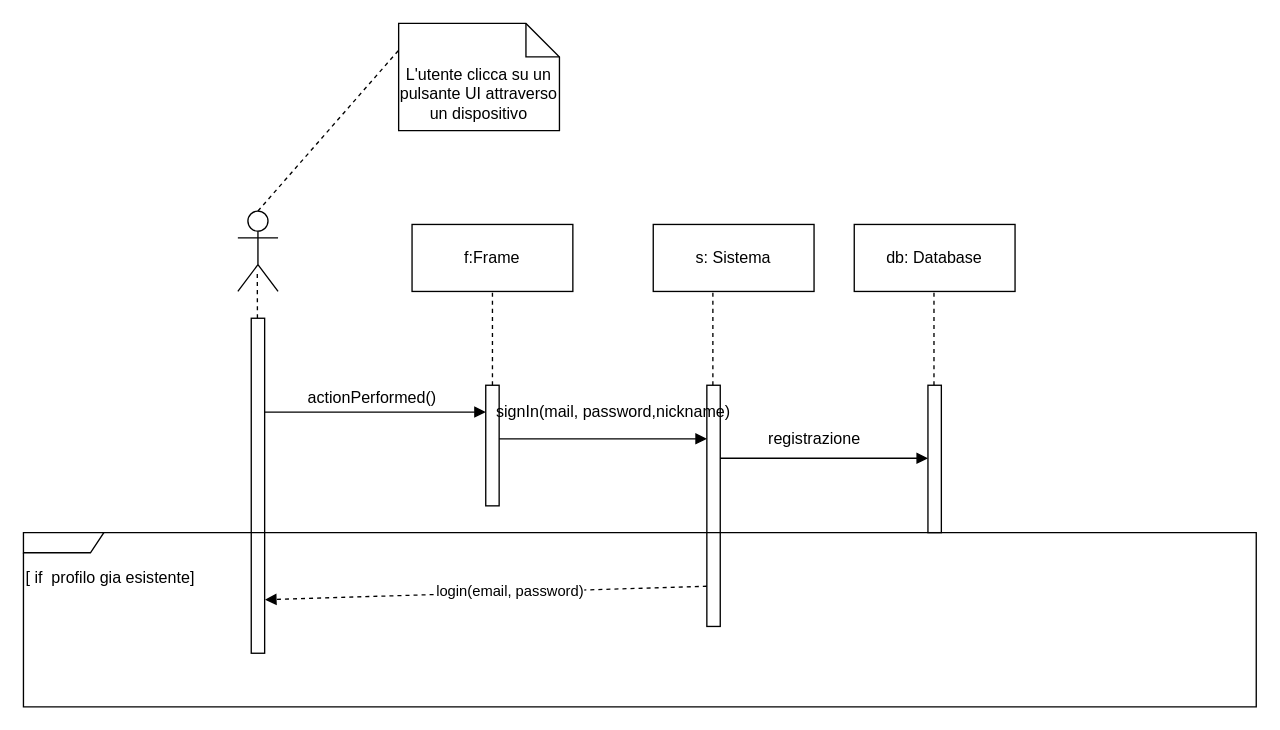
Image size: 1280x730. Some labels were removed from this diagram. Here are the shapes that lost their labels. From the top down, the centre of each, then its label:
At [257,250]: "u.Utente".
At [639,619]: "Alternative".
